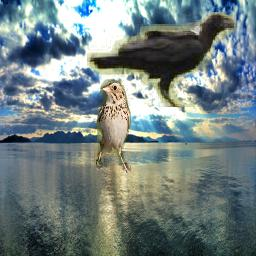Crow: (88, 13, 237, 108)
Sparrow: (97, 79, 132, 173)
